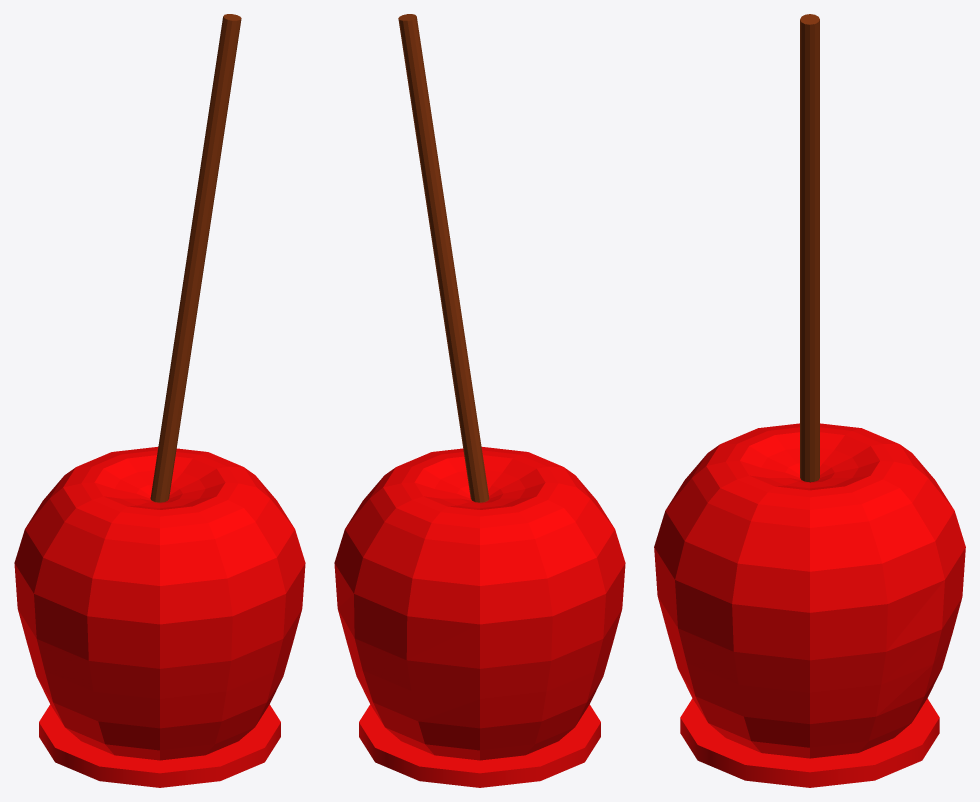
Rendered from Pomme d_amour.fbx.
3 views of the same model, side by side, from view 1: azimuth 30°, elevation 25°; view 2: azimuth 150°, elevation 25°; view 3: azimuth 270°, elevation 25° (orthographic). The views are drawn at different scales.
Parts seen in each view (by area): view 1: Cylinder001, Object002; view 2: Cylinder001, Object002; view 3: Cylinder001, Object002.
Boxes of the visible parts, left/top/right/bottom form: Cylinder001: left=14, top=447, right=305, bottom=787; Object002: left=150, top=14, right=241, bottom=502; Cylinder001: left=334, top=447, right=625, bottom=787; Object002: left=398, top=14, right=489, bottom=502; Cylinder001: left=654, top=423, right=965, bottom=787; Object002: left=800, top=14, right=819, bottom=482.
Bounding box in the file's own units: 5.47 × 14.59 × 5.47.
